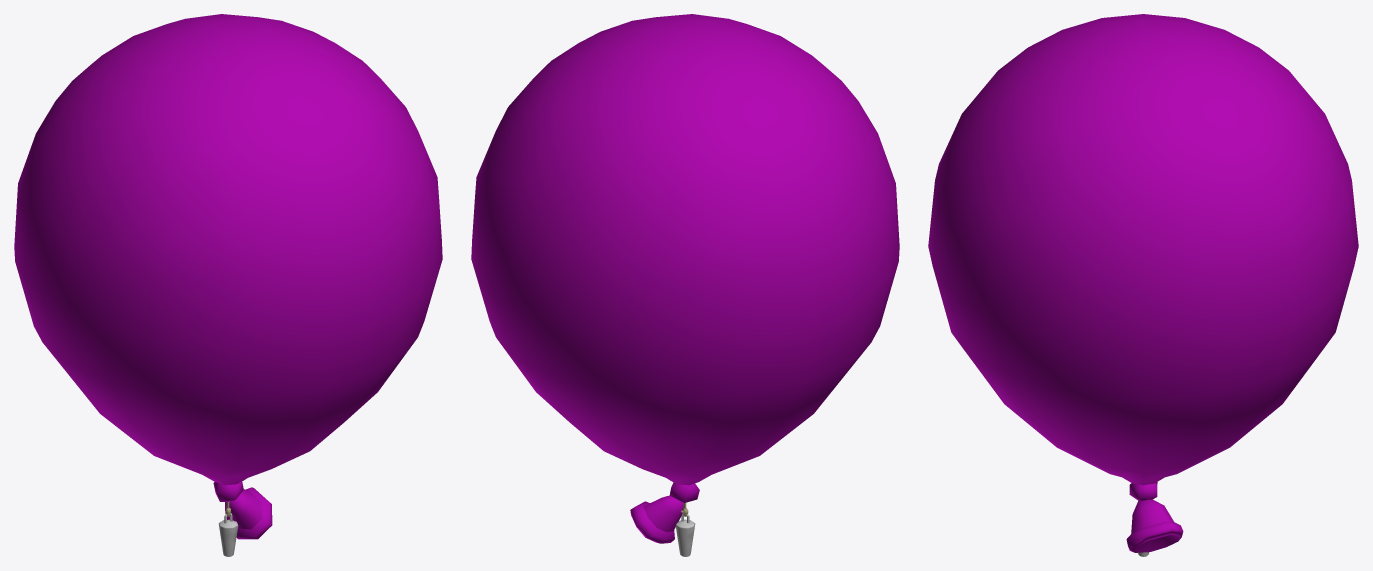
File: globop.obj
3 renders of one model, left to right at view 1: azimuth 30°, elevation 25°; view 2: azimuth 150°, elevation 25°; view 3: azimuth 270°, elevation 25°, orthographic.
Parts seen in each view (by area): view 1: Baloon__Mt_Balloon, String__Mt_String; view 2: Baloon__Mt_Balloon, String__Mt_String; view 3: Baloon__Mt_Balloon.
Part boxes in pixels (box(x1,y1,x2,y2)): Baloon__Mt_Balloon: box(14, 14, 442, 539); String__Mt_String: box(218, 502, 238, 556); Baloon__Mt_Balloon: box(471, 14, 899, 543); String__Mt_String: box(675, 502, 695, 556); Baloon__Mt_Balloon: box(928, 14, 1358, 552).
Size of the model in its own units: 37.99 by 50.71 by 37.99.
2 materials, 2 textured.
